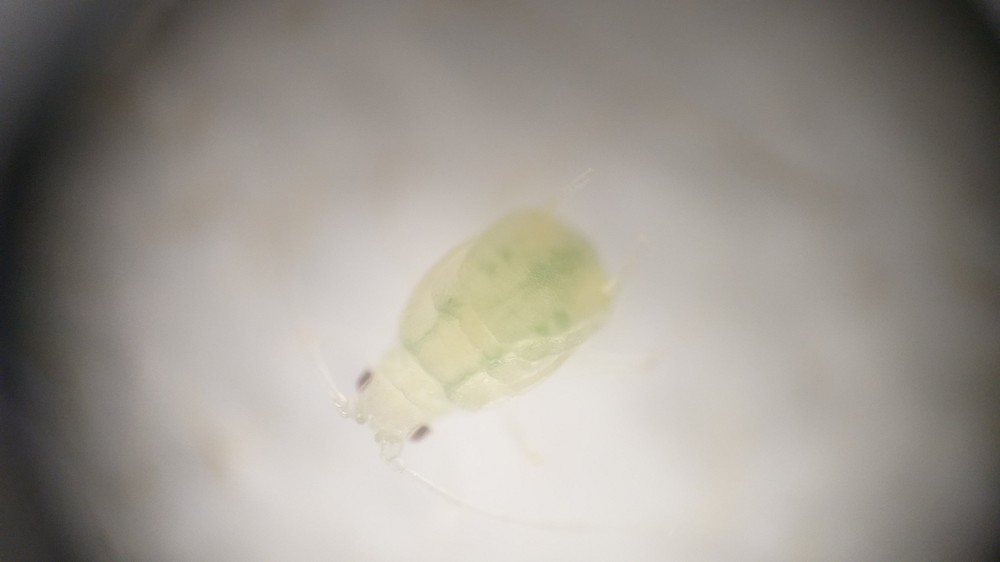Pulgon: (237, 167, 707, 541)
